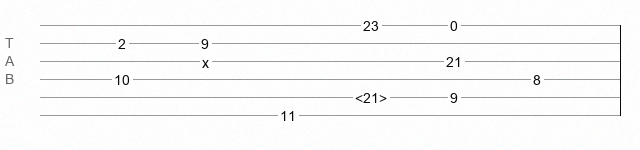0: (450, 18, 458, 28)
10: (114, 72, 130, 82)
11: (280, 108, 296, 118)
2: (118, 36, 126, 46)
21: (446, 54, 462, 64)
23: (363, 18, 379, 28)
8: (533, 72, 541, 82)
9: (201, 36, 209, 46), (450, 90, 458, 100)
harmonic: (355, 90, 387, 100)
x: (202, 55, 209, 63)
